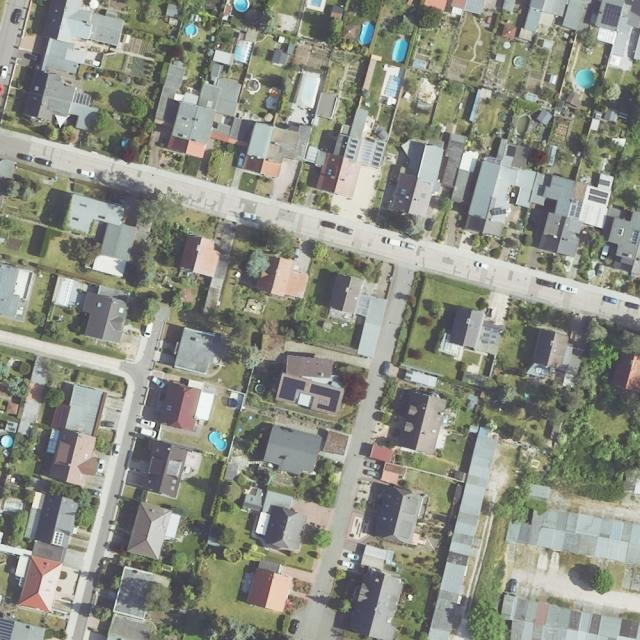PV: (310, 384, 341, 412), (278, 376, 305, 401), (600, 3, 622, 27), (371, 140, 385, 167), (1, 617, 16, 640), (588, 189, 608, 205), (482, 327, 497, 344), (73, 92, 91, 106), (346, 139, 358, 158), (506, 145, 516, 157), (491, 208, 507, 215)
ST: (58, 407, 69, 427)
